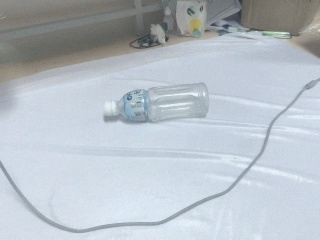bottle: (103, 80, 210, 125)
box: (239, 1, 319, 39), (175, 1, 209, 38)
